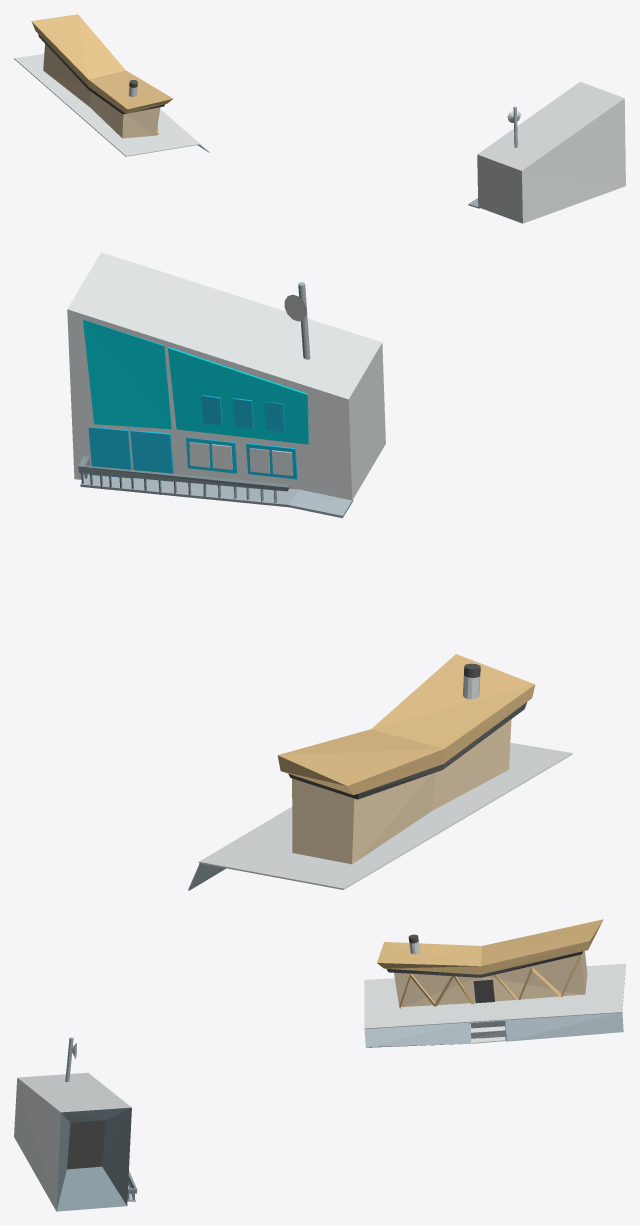
Rendered from char_q_70QiWI4SQva.glb.
3 views of the same model, one above another, from view 1: azimuth 30°, elevation 25°; view 2: azimuth 150°, elevation 25°; view 3: azimuth 270°, elevation 25° (orthographic). The views are drawn at different scales.
Visible parts, largest first — view 1: group1202069558, group826367854; view 2: group1202069558, group826367854; view 3: group826367854, group1202069558.
Boxes of the visible parts, x1,y1,x2,y2 form: group1202069558: (468, 82, 625, 223); group826367854: (14, 14, 209, 156); group1202069558: (67, 252, 385, 518); group826367854: (188, 654, 572, 890); group826367854: (364, 919, 625, 1047); group1202069558: (14, 1037, 137, 1211).
Size of the model in its own units: 5.56 by 1.48 by 6.95.
